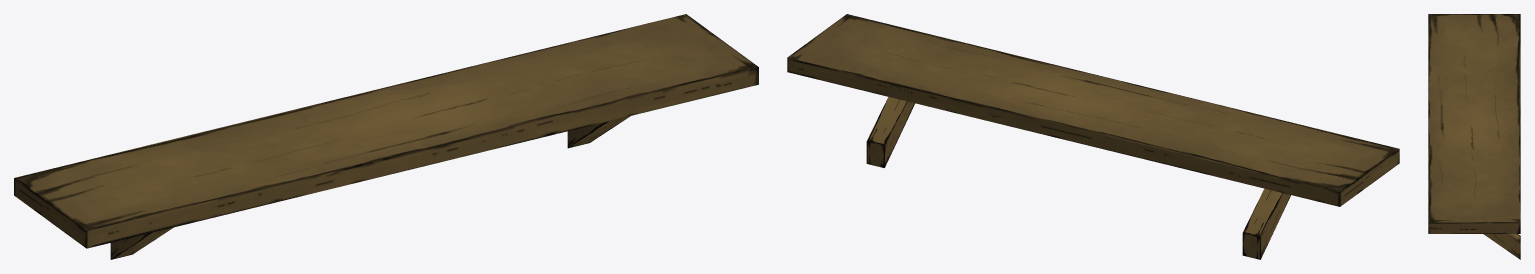
The model's file is Book_stand.fbx.
3 views of the same model, side by side, from view 1: azimuth 30°, elevation 25°; view 2: azimuth 150°, elevation 25°; view 3: azimuth 270°, elevation 25° (orthographic). The views are drawn at different scales.
Visible parts, largest first — view 1: Book_stand; view 2: Book_stand; view 3: Book_stand.
Part boxes in pixels (x1=…): Book_stand: x1=14, y1=14, x2=758, y2=259; Book_stand: x1=787, y1=14, x2=1399, y2=259; Book_stand: x1=1428, y1=14, x2=1520, y2=259.
Bounding box in the file's own units: 290 × 43.58 × 54.31.
